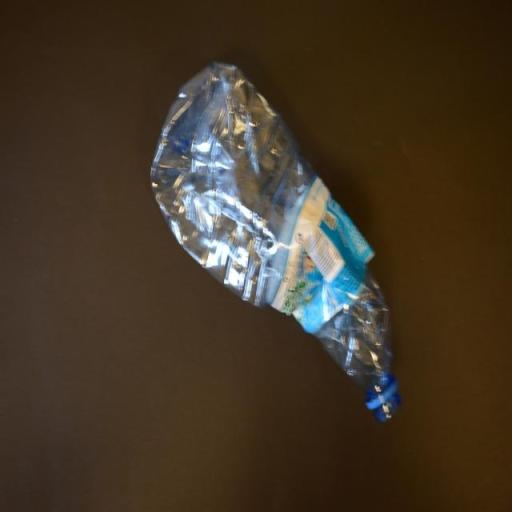plastic: (149, 60, 407, 427)
